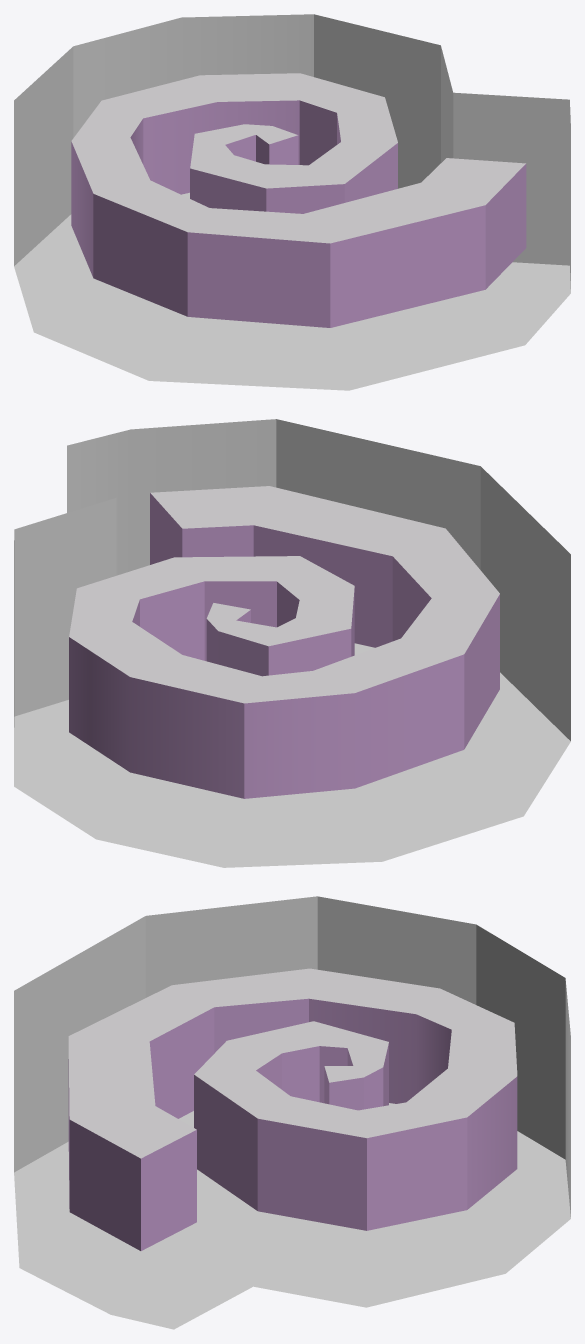
The model's file is GlowStickPinkSwirl.glb.
The picture shows the model from 3 angles, top to bottom: view 1: azimuth 30°, elevation 25°; view 2: azimuth 150°, elevation 25°; view 3: azimuth 270°, elevation 25°; orthographic projection. The views are drawn at different scales.
Parts seen in each view (by area): view 1: GlowStickPinkSwirl; view 2: GlowStickPinkSwirl; view 3: GlowStickPinkSwirl.
Part boxes in pixels (x1,y1,x2,y2): GlowStickPinkSwirl: (14,14,570,390); GlowStickPinkSwirl: (14,419,570,867); GlowStickPinkSwirl: (14,896,570,1329).
Bounding box in the file's own units: 0.2339 × 0.0788 × 0.2189.
